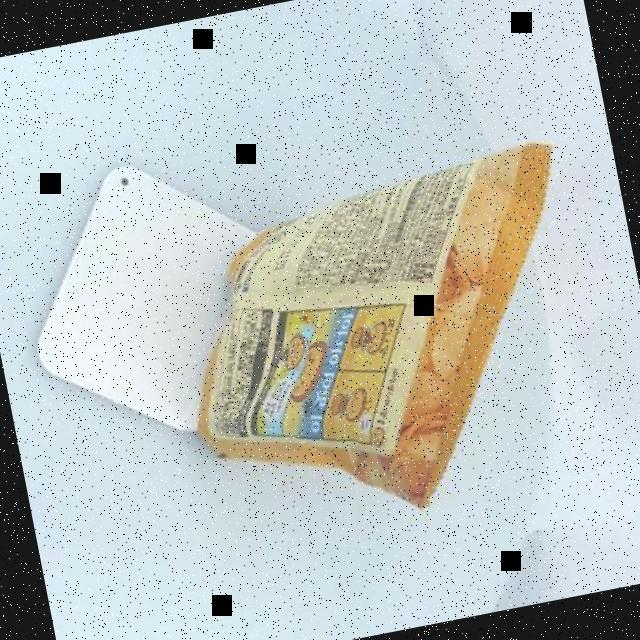snack_bag: (134, 96, 636, 560)
